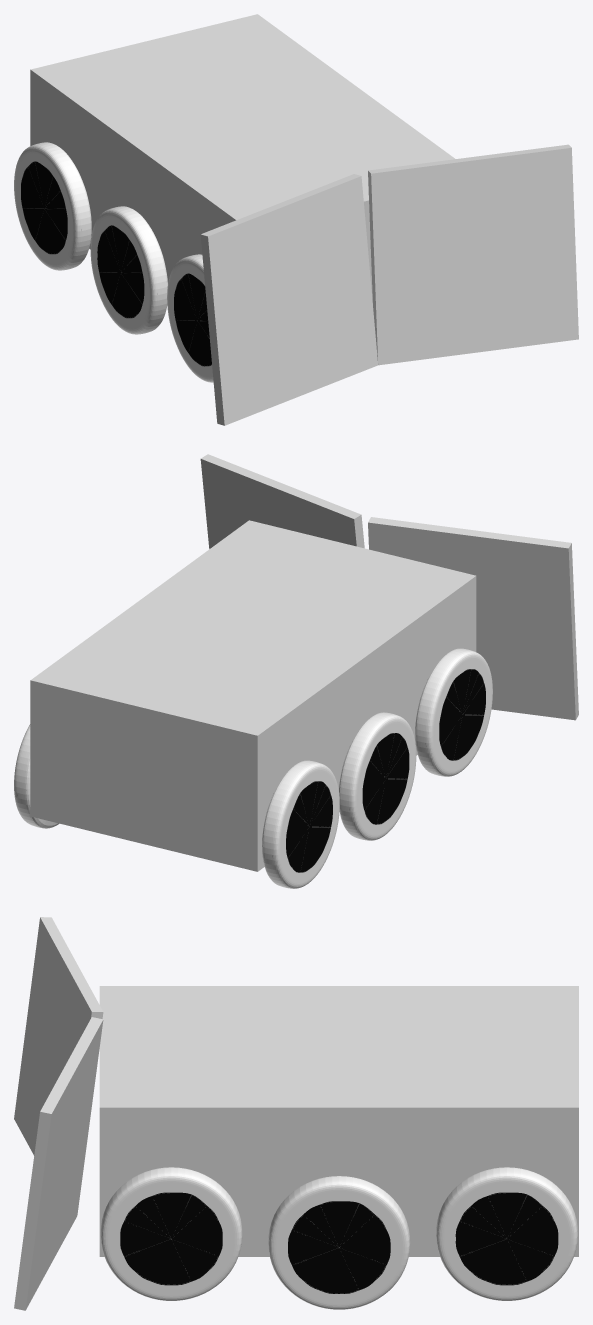
The picture shows the model from 3 angles, top to bottom: view 1: azimuth 30°, elevation 25°; view 2: azimuth 150°, elevation 25°; view 3: azimuth 270°, elevation 25°; orthographic projection. The views are drawn at different scales.
Visible parts, largest first — view 1: Body, Scoop1, Scoop0, Wheel5, Wheel3, Wheel4; view 2: Body, Scoop0, Scoop1, Wheel5, Wheel4, Wheel3, Wheel2; view 3: Body, Wheel2, Wheel0, Wheel1, Scoop1, Scoop0.
Boxes of the visible parts, <box> form: Body: <box>30,14,455,303</box>; Scoop1: <box>368,144,578,365</box>; Scoop0: <box>200,174,377,425</box>; Wheel5: <box>14,142,91,270</box>; Wheel3: <box>90,206,167,334</box>; Wheel4: <box>167,254,213,382</box>; Body: <box>30,520,476,871</box>; Scoop0: <box>368,517,578,720</box>; Scoop1: <box>200,454,364,548</box>; Wheel5: <box>262,760,339,888</box>; Wheel4: <box>415,648,492,776</box>; Wheel3: <box>339,712,416,840</box>; Wheel2: <box>14,724,58,828</box>; Body: <box>99,986,578,1256</box>; Wheel2: <box>436,1167,577,1300</box>; Wheel0: <box>268,1176,410,1309</box>; Wheel1: <box>100,1167,242,1300</box>; Scoop1: <box>14,1017,103,1310</box>; Scoop0: <box>14,917,103,1155</box>.
Bounding box in the file's own units: 97.17 × 52.15 × 118.
2 materials, 1 textured.
